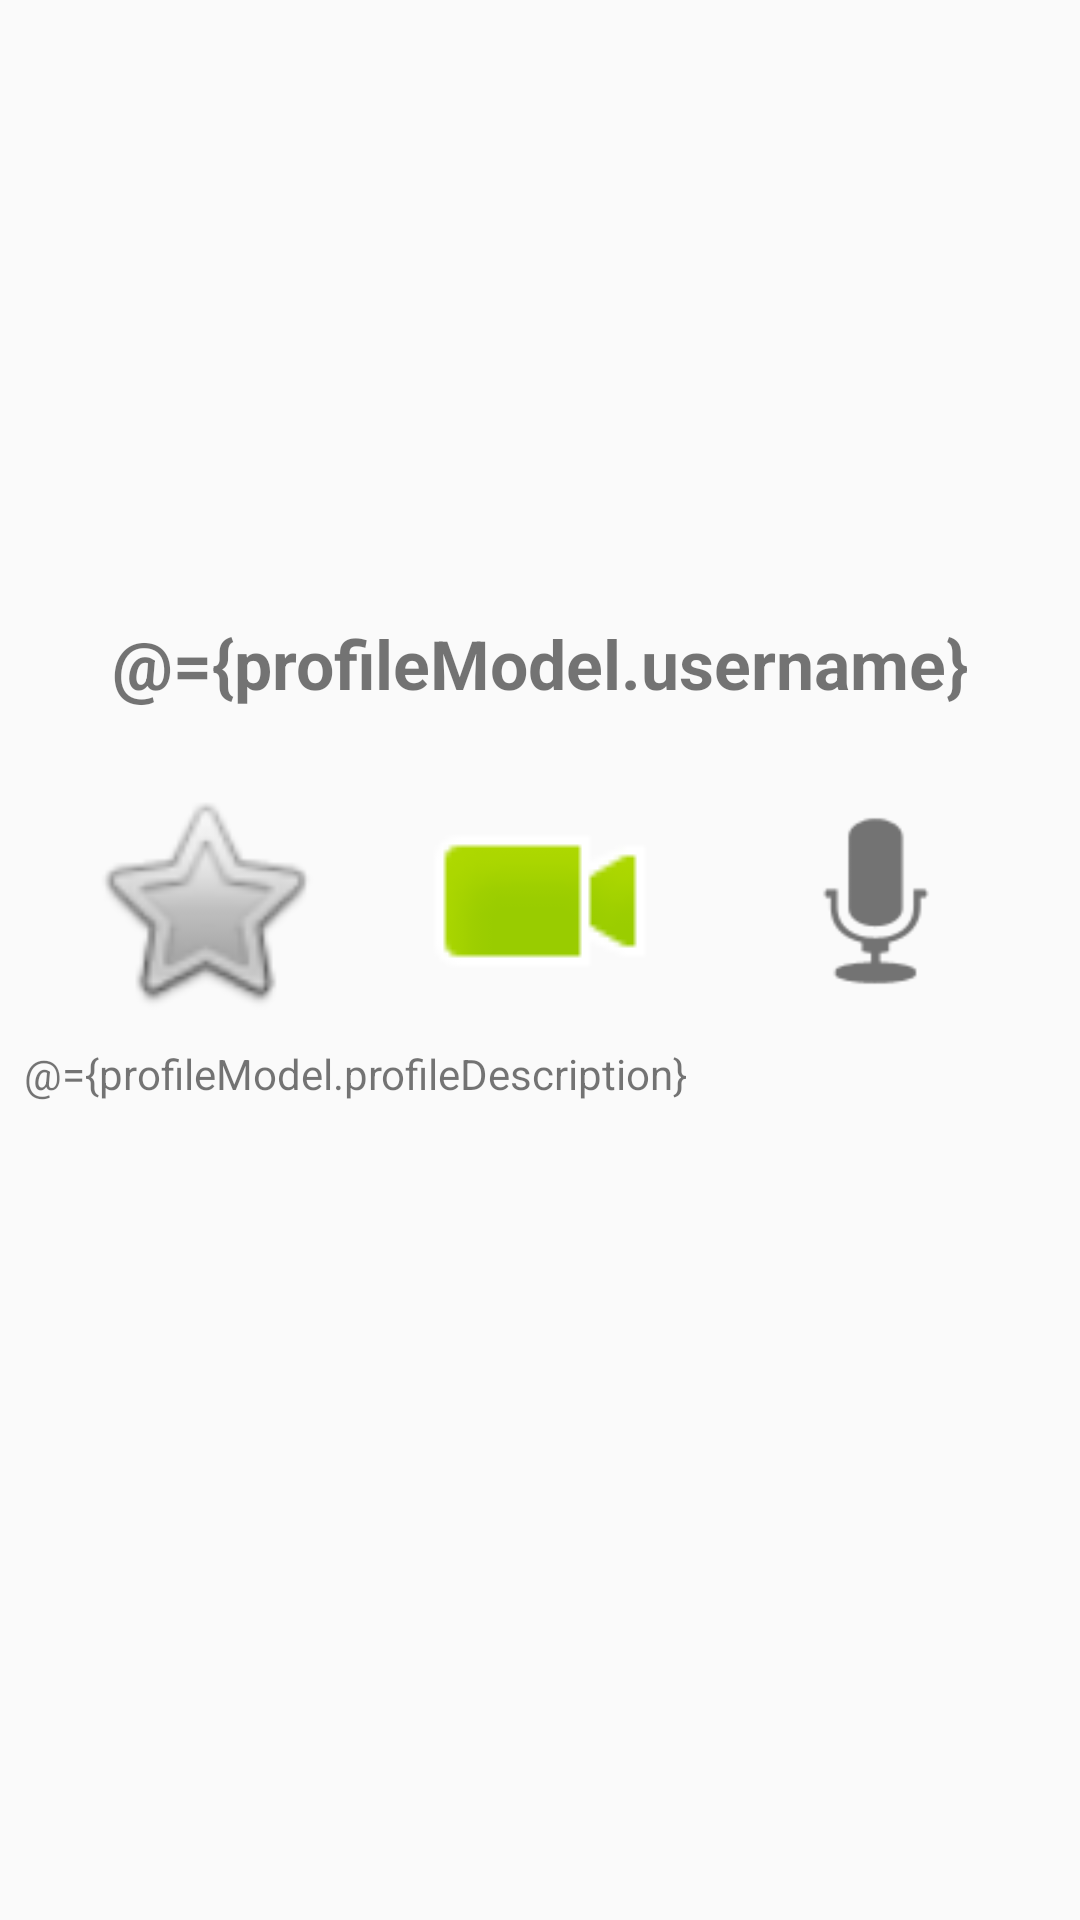

Where to tap for icons on this 1080 x 1920 app screen, as point (x, y):
presence video online: point (540, 901)
speak now: point (875, 901)
star: point (206, 903)
